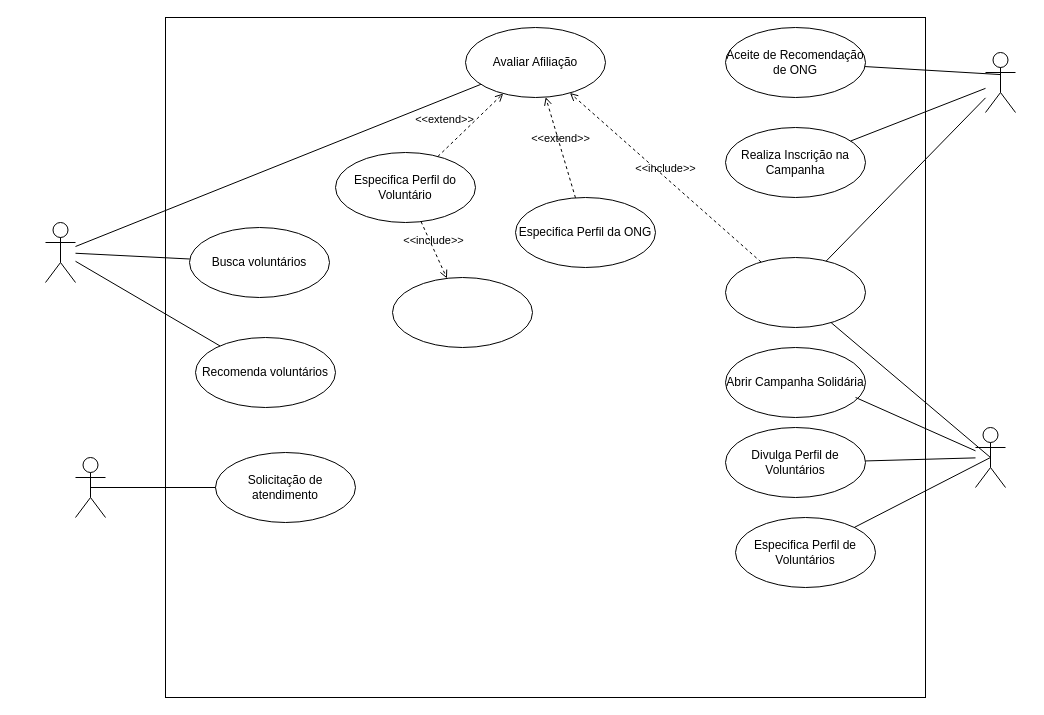
This 1044x715 diagram has some shape labels left out. The centre of each missing label's shape, as x and y in pixels:
(Rede + Social)²: (60,252)
Cidadão: (90,487)
ONG: (990,457)
Recomenda ONG Parceiras: (462,312)
Solicita Afiliação: (795,292)
Voluntário: (1000,82)
